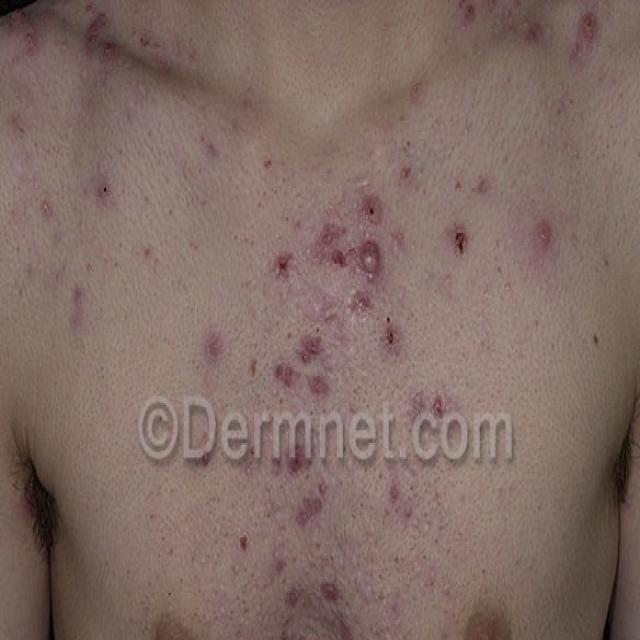Acne: (20, 7, 146, 190), (0, 208, 117, 349), (460, 7, 611, 84), (311, 163, 391, 289), (253, 308, 329, 398), (226, 489, 277, 577), (190, 296, 233, 373), (530, 193, 558, 263), (400, 127, 423, 209), (454, 195, 473, 281), (293, 483, 329, 528), (308, 571, 349, 610)
